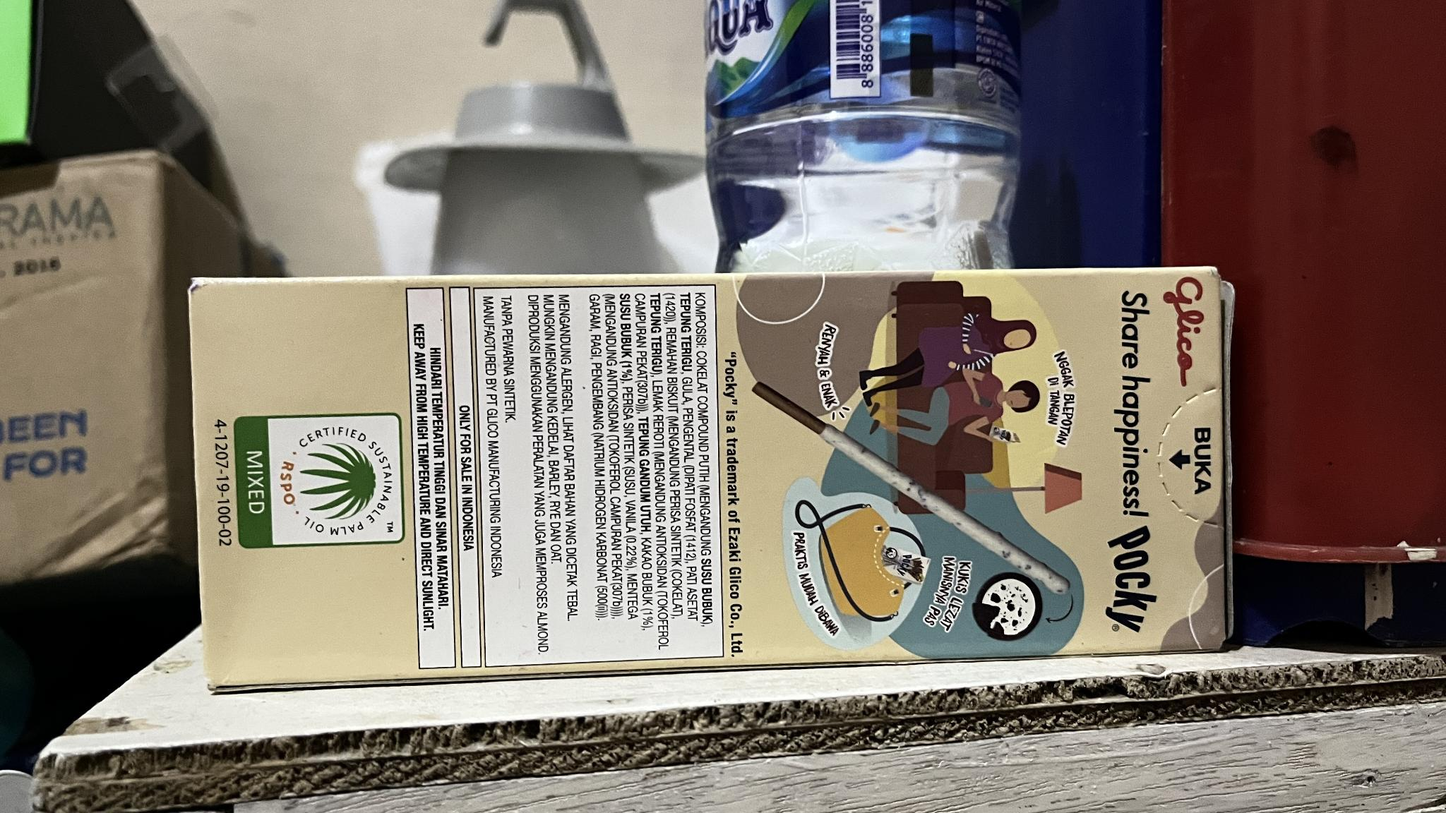Kertas: (185, 267, 1230, 694)
